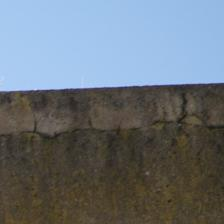Crack: (47, 132, 178, 224), (200, 6, 224, 38)
